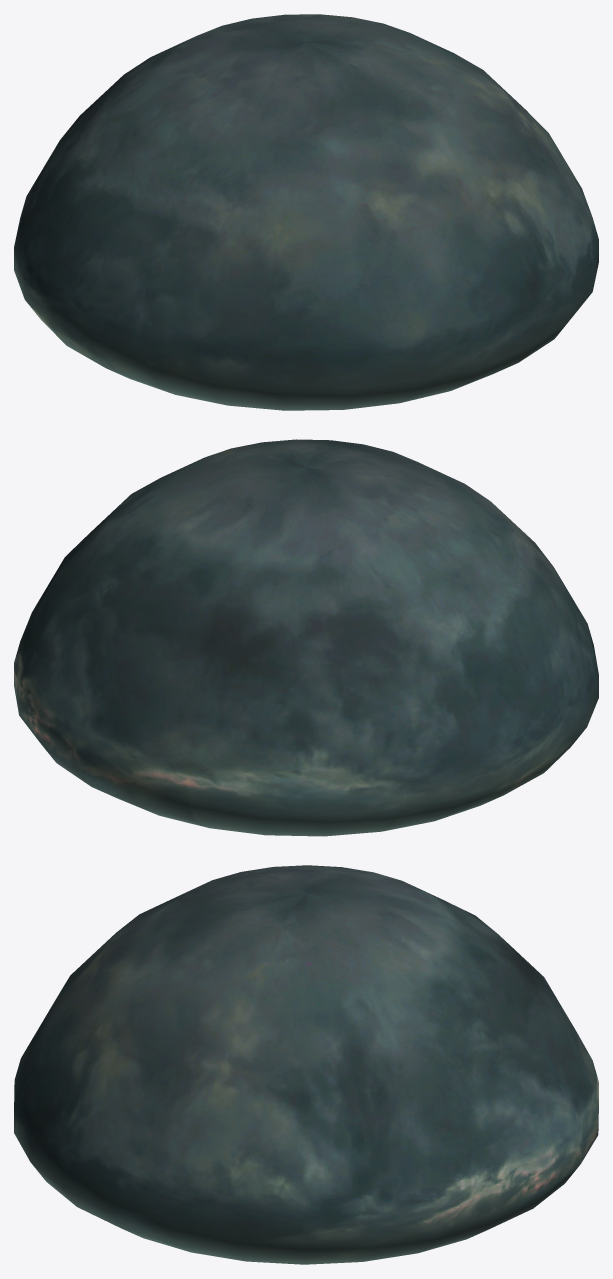
Rendered from Sky.glb.
3 views of the same model, one above another, from view 1: azimuth 30°, elevation 25°; view 2: azimuth 150°, elevation 25°; view 3: azimuth 270°, elevation 25° (orthographic).
Parts seen in each view (by area): view 1: "dome01"; view 2: "dome01"; view 3: "dome01".
Boxes of the visible parts, box(x1,y1,x2,y2) form: "dome01": box(14, 14, 598, 410); "dome01": box(14, 439, 598, 836); "dome01": box(14, 865, 598, 1264).
Size of the model in its own units: 607 by 352 by 603.
Materials: 20 (20 with a texture image).
